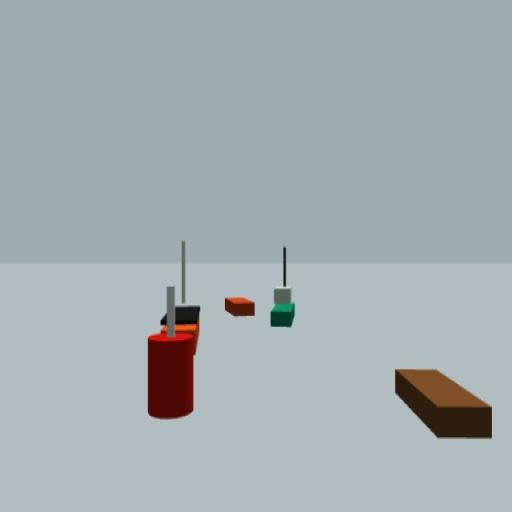debris_container: (395, 366, 494, 441), (224, 296, 256, 318)
fishing_boat: (270, 245, 294, 328)
floating_obstacle: (148, 286, 194, 419)
